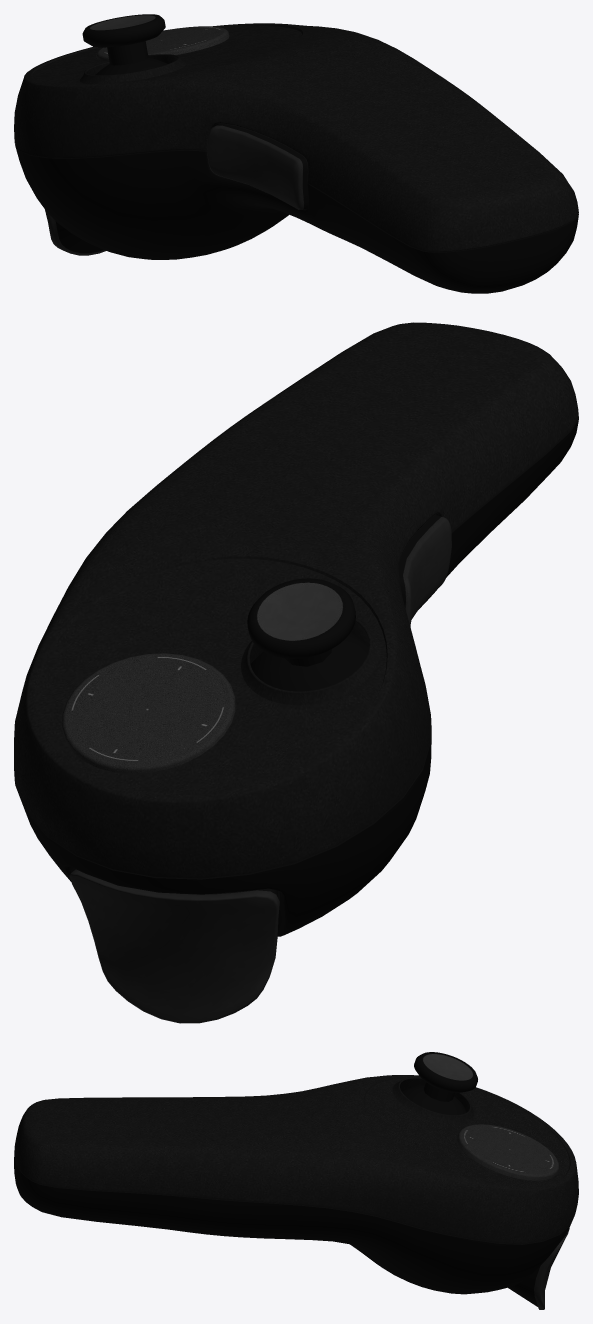
Rendered from right.glb.
3 views of the same model, one above another, from view 1: azimuth 30°, elevation 25°; view 2: azimuth 150°, elevation 25°; view 3: azimuth 270°, elevation 25° (orthographic). The views are drawn at different scales.
Visible parts, largest first — view 1: Body, Plate, Grab_Button, ThumpStick, TouchPad, trigger; view 2: Body, Plate, trigger, TouchPad, ThumpStick, Grab_Button; view 3: Body, Plate, TouchPad, ThumpStick, trigger.
Boxes of the visible parts, x1,y1,x2,y2 form: Body: [14, 23, 578, 293]; Plate: [32, 26, 301, 84]; Grab_Button: [207, 123, 308, 209]; ThumpStick: [82, 14, 167, 75]; TouchPad: [96, 26, 229, 61]; trigger: [45, 210, 105, 255]; Body: [14, 322, 578, 936]; Plate: [35, 558, 386, 795]; trigger: [69, 869, 279, 1023]; TouchPad: [62, 653, 235, 773]; ThumpStick: [247, 578, 369, 691]; Grab_Button: [398, 514, 451, 626]; Body: [14, 1075, 578, 1294]; Plate: [364, 1077, 569, 1187]; TouchPad: [457, 1124, 559, 1180]; ThumpStick: [402, 1052, 477, 1114]; trigger: [508, 1228, 569, 1309].
Size of the model in its own units: 0.065 by 0.0594 by 0.1319.
Materials: 1 (1 with a texture image).
